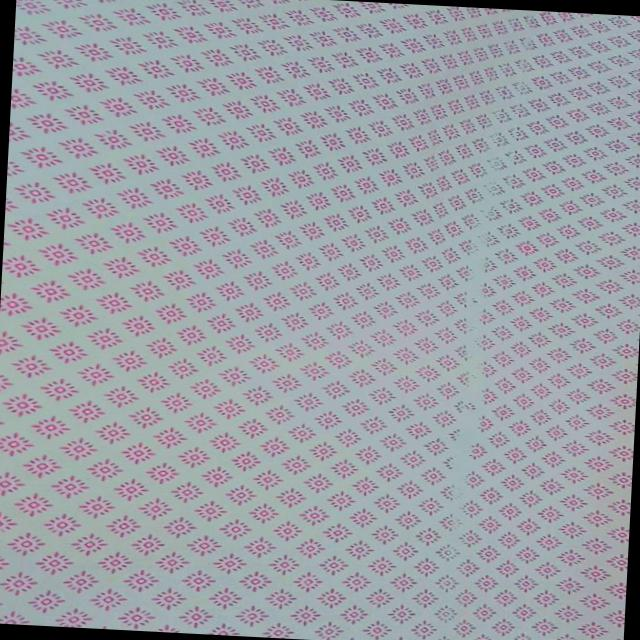selvet: (437, 9, 528, 553)
